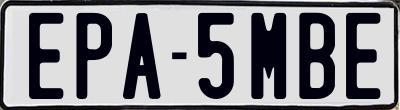5: (198, 10, 237, 98)
A: (122, 11, 163, 101)
B: (298, 12, 338, 99)
E: (26, 12, 64, 104), (343, 10, 381, 96)
M: (249, 11, 286, 98)
P: (74, 13, 114, 99)
